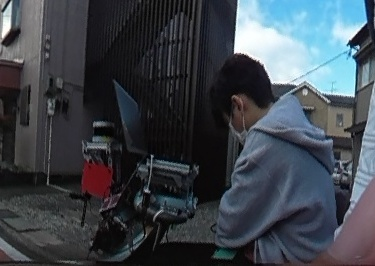person: (207, 57, 335, 266)
